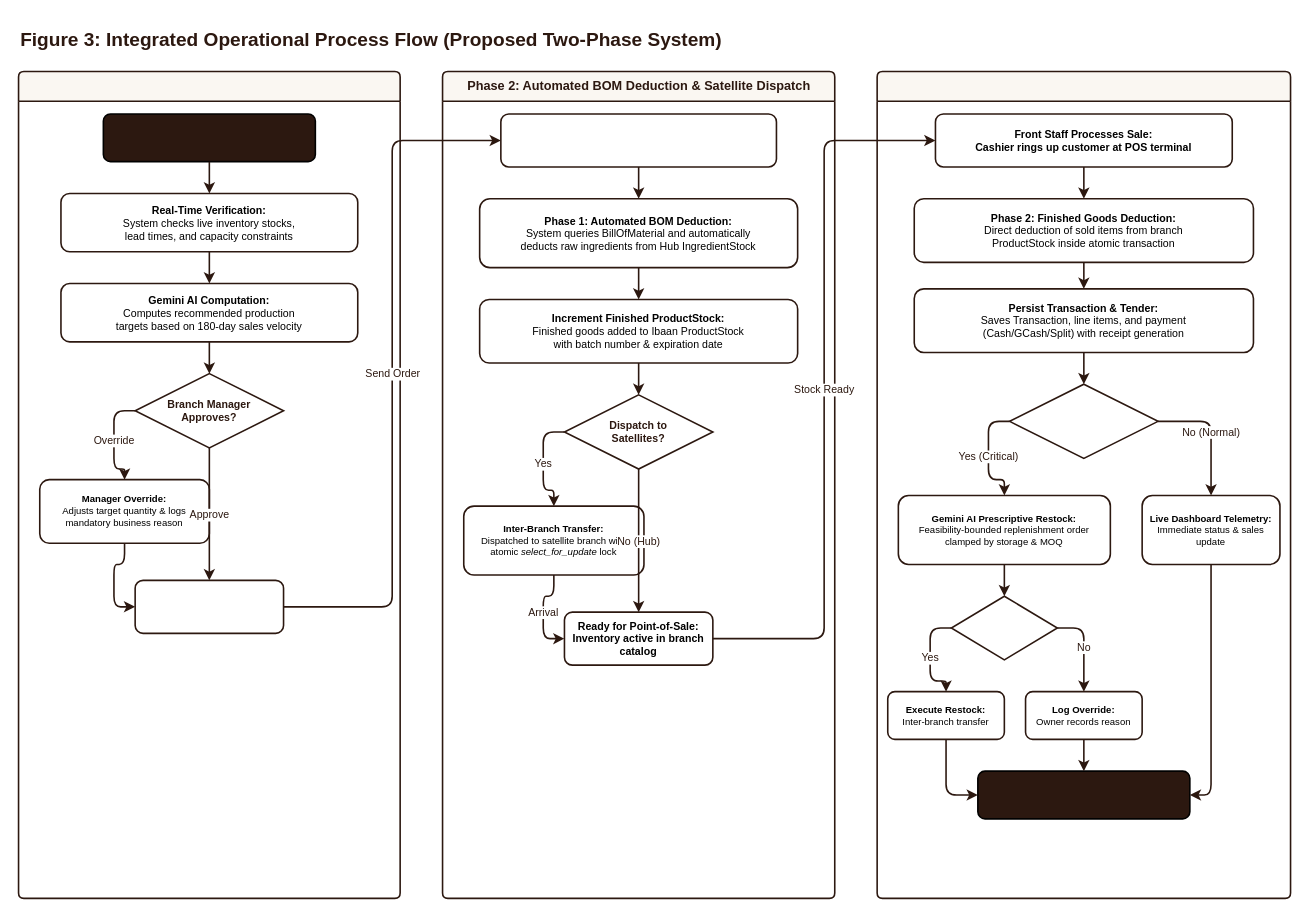
Some shapes in this 1310 by 917 pixel diagram are drawn without their labels. Each missing label, with the box of its shape:
Confirm Batch Target: Production order confirmed in central system: (134, 579, 284, 634)
End of Operational Day: Automated batch ETL & cold archiving: (977, 770, 1190, 819)
Execute Kitchen Batch Production (Baking at Ibaan Main Hub): (500, 113, 777, 167)
Owner Approves?: (950, 595, 1058, 660)
Phase 1: Operational Planning & AI Production Targets: (17, 70, 400, 899)
Phase 3: POS Sales & Bounded Replenishment: (876, 70, 1291, 899)
Start of Operational Day: (102, 113, 316, 162)
Stock <= Reorder Threshold?: (1008, 383, 1158, 459)
